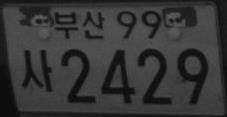2: (137, 47, 173, 106), (60, 47, 97, 104)
4: (99, 48, 135, 103)
9: (176, 46, 209, 105), (116, 9, 137, 39), (141, 9, 162, 38)
부산_H: (53, 10, 105, 39)
사: (21, 49, 54, 92)
